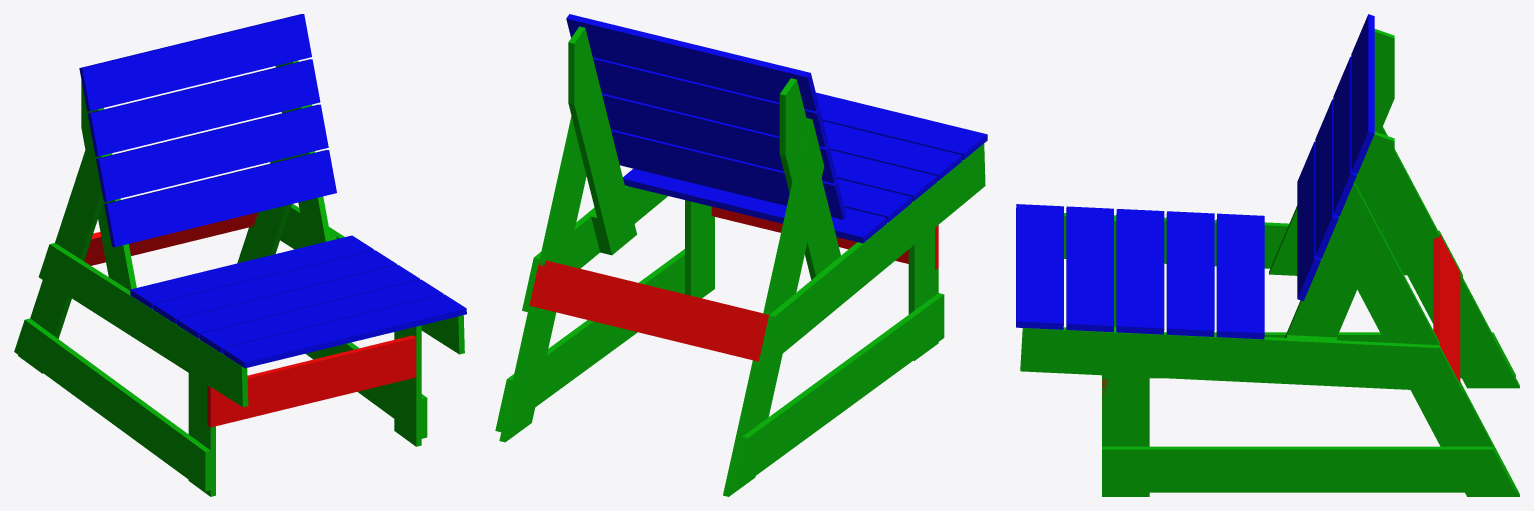
Rendered from result.glb.
3 renders of one model, left to right at view 1: azimuth 30°, elevation 25°; view 2: azimuth 150°, elevation 25°; view 3: azimuth 270°, elevation 25°, orthographic. The views are drawn at different scales.
Visible parts, largest first — view 1: a8ab5c1f-5b0b-45cf-a9b9-6cd416ea1aaa__Box_6, ae3c3062-2695-46cc-890a-931fc1d30c41__Box_7, d6365b8d-d8b0-4cb7-9129-15a06f3e4301__Box_5, 5b7b334d-acc2-4f78-8c16-ed848cf82739__Box_8, 04a14f70-1e8a-4f30-a263-38fd4154ebc7__undefined, 4c698c1f-c0fa-40ee-b95e-3afadf98fd89__undefined, f02b743d-14b4-4c6a-8c5e-e9333ca63152__Plane_1, f3c1e8bc-38ad-4e6b-b025-e3d79cc27402__Box, d0b3f4c2-d225-463f-873e-3c1dd729a8fc__Box_1, 5ef40124-5278-4abf-8495-5ca41ac6b733__Box_2, b4fcff74-f6be-4742-9071-dde8776c08ce__Box_4, 8258321e-bc98-494d-a925-b9f6b78a7a1e__Box_3 (+9 smaller); view 2: 5b3af49f-7866-4cbc-99fe-5d3f41d7dd64__Plane_2, bcded650-4629-475c-b0a7-4f724fd1a786__undefined (×2), 4c698c1f-c0fa-40ee-b95e-3afadf98fd89__undefined, 04a14f70-1e8a-4f30-a263-38fd4154ebc7__undefined, 5b7b334d-acc2-4f78-8c16-ed848cf82739__Box_8, 9b84c1de-2eb0-4db0-a112-dcc24adf19d7__undefined, 00e2b5c4-896f-4557-91cd-c81029f768b7__undefined, ae3c3062-2695-46cc-890a-931fc1d30c41__Box_7, d6365b8d-d8b0-4cb7-9129-15a06f3e4301__Box_5, a8ab5c1f-5b0b-45cf-a9b9-6cd416ea1aaa__Box_6, d4157141-202b-40de-8da8-9a89547cb7ee__Plane, f3c1e8bc-38ad-4e6b-b025-e3d79cc27402__Box (+9 smaller); view 3: ff54be17-be24-4817-b3cb-338f12806632__undefined, d4157141-202b-40de-8da8-9a89547cb7ee__Plane, bcded650-4629-475c-b0a7-4f724fd1a786__undefined (×2), 9b84c1de-2eb0-4db0-a112-dcc24adf19d7__undefined, 00e2b5c4-896f-4557-91cd-c81029f768b7__undefined, 8258321e-bc98-494d-a925-b9f6b78a7a1e__Box_3, b4fcff74-f6be-4742-9071-dde8776c08ce__Box_4, 5ef40124-5278-4abf-8495-5ca41ac6b733__Box_2, d0b3f4c2-d225-463f-873e-3c1dd729a8fc__Box_1, f3c1e8bc-38ad-4e6b-b025-e3d79cc27402__Box, 598ee50e-bac2-4cb4-a763-13c3e34109e2__undefined, 5b7b334d-acc2-4f78-8c16-ed848cf82739__Box_8 (+7 smaller).
Boxes of the visible parts, x1,y1,x2,y2 form: a8ab5c1f-5b0b-45cf-a9b9-6cd416ea1aaa__Box_6: (96,104,328,201); ae3c3062-2695-46cc-890a-931fc1d30c41__Box_7: (87,59,320,156); d6365b8d-d8b0-4cb7-9129-15a06f3e4301__Box_5: (104,150,336,247); 5b7b334d-acc2-4f78-8c16-ed848cf82739__Box_8: (79,14,311,111); 04a14f70-1e8a-4f30-a263-38fd4154ebc7__undefined: (14,318,210,491); 4c698c1f-c0fa-40ee-b95e-3afadf98fd89__undefined: (38,243,248,407); f02b743d-14b4-4c6a-8c5e-e9333ca63152__Plane_1: (207,335,421,427); f3c1e8bc-38ad-4e6b-b025-e3d79cc27402__Box: (222,294,466,368); d0b3f4c2-d225-463f-873e-3c1dd729a8fc__Box_1: (199,279,443,353); 5ef40124-5278-4abf-8495-5ca41ac6b733__Box_2: (176,265,420,338); b4fcff74-f6be-4742-9071-dde8776c08ce__Box_4: (130,235,373,309); 8258321e-bc98-494d-a925-b9f6b78a7a1e__Box_3: (153,250,397,323); 5b3af49f-7866-4cbc-99fe-5d3f41d7dd64__Plane_2: (529,260,768,361); bcded650-4629-475c-b0a7-4f724fd1a786__undefined (×2): (499,116,586,442); 4c698c1f-c0fa-40ee-b95e-3afadf98fd89__undefined: (757,144,985,369); 04a14f70-1e8a-4f30-a263-38fd4154ebc7__undefined: (731,293,944,489); 5b7b334d-acc2-4f78-8c16-ed848cf82739__Box_8: (566,14,819,111); 9b84c1de-2eb0-4db0-a112-dcc24adf19d7__undefined: (723,118,824,496); 00e2b5c4-896f-4557-91cd-c81029f768b7__undefined: (568,26,636,255); ae3c3062-2695-46cc-890a-931fc1d30c41__Box_7: (593,57,828,147); d6365b8d-d8b0-4cb7-9129-15a06f3e4301__Box_5: (611,129,846,219); a8ab5c1f-5b0b-45cf-a9b9-6cd416ea1aaa__Box_6: (602,93,837,183); d4157141-202b-40de-8da8-9a89547cb7ee__Plane: (495,249,684,432); f3c1e8bc-38ad-4e6b-b025-e3d79cc27402__Box: (816,92,987,159); ff54be17-be24-4817-b3cb-338f12806632__undefined: (1020,327,1462,392); d4157141-202b-40de-8da8-9a89547cb7ee__Plane: (1102,446,1515,492); bcded650-4629-475c-b0a7-4f724fd1a786__undefined (×2): (1330,182,1519,496); 9b84c1de-2eb0-4db0-a112-dcc24adf19d7__undefined: (1380,126,1519,388); 00e2b5c4-896f-4557-91cd-c81029f768b7__undefined: (1284,131,1394,337); 8258321e-bc98-494d-a925-b9f6b78a7a1e__Box_3: (1166,211,1214,336); b4fcff74-f6be-4742-9071-dde8776c08ce__Box_4: (1216,213,1264,339); 5ef40124-5278-4abf-8495-5ca41ac6b733__Box_2: (1116,209,1164,334); d0b3f4c2-d225-463f-873e-3c1dd729a8fc__Box_1: (1066,206,1113,332); f3c1e8bc-38ad-4e6b-b025-e3d79cc27402__Box: (1016,204,1063,329); 598ee50e-bac2-4cb4-a763-13c3e34109e2__undefined: (1102,327,1149,496); 5b7b334d-acc2-4f78-8c16-ed848cf82739__Box_8: (1351,14,1374,173).
Bounding box in the file's own units: 525 × 769 × 953.
